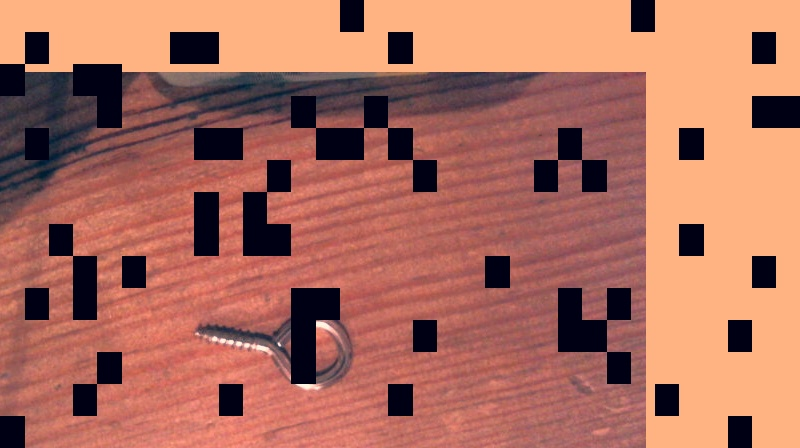O001: (189, 306, 353, 393)
